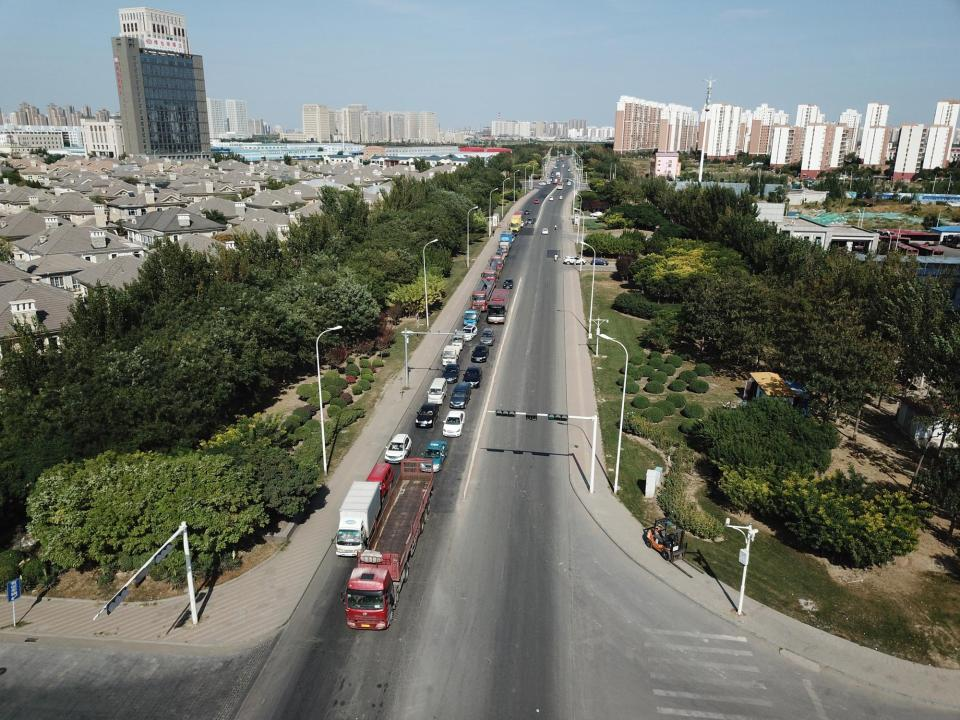bus: (860, 234, 910, 251), (487, 288, 509, 324), (908, 242, 944, 263), (890, 233, 942, 246), (886, 240, 918, 260)
car: (420, 440, 448, 472), (384, 434, 412, 464), (415, 402, 439, 428), (443, 410, 465, 437), (450, 382, 472, 409), (463, 366, 483, 389), (442, 364, 460, 384), (471, 345, 489, 363), (461, 324, 478, 341), (480, 328, 496, 346), (563, 256, 586, 264), (591, 258, 609, 266), (503, 278, 514, 288), (589, 211, 603, 217), (508, 234, 515, 242), (542, 228, 549, 234), (524, 209, 530, 215), (526, 218, 532, 224), (534, 198, 539, 204), (549, 196, 554, 201), (538, 182, 546, 185), (567, 181, 571, 185), (547, 180, 551, 184), (546, 178, 550, 182), (550, 175, 554, 179), (559, 196, 562, 200), (551, 172, 554, 176), (568, 168, 571, 172), (556, 165, 559, 168), (552, 172, 554, 175), (562, 164, 564, 167)
truck: (340, 458, 434, 631), (331, 481, 382, 557), (470, 278, 494, 312), (481, 261, 501, 287), (440, 345, 461, 366), (462, 308, 481, 326), (490, 250, 506, 268), (498, 230, 511, 249), (510, 215, 522, 232), (498, 240, 510, 256), (514, 210, 523, 222), (557, 182, 564, 190), (552, 178, 558, 184), (556, 171, 560, 179), (561, 156, 564, 161)
van: (364, 462, 393, 506), (427, 377, 448, 404), (450, 330, 465, 350)
